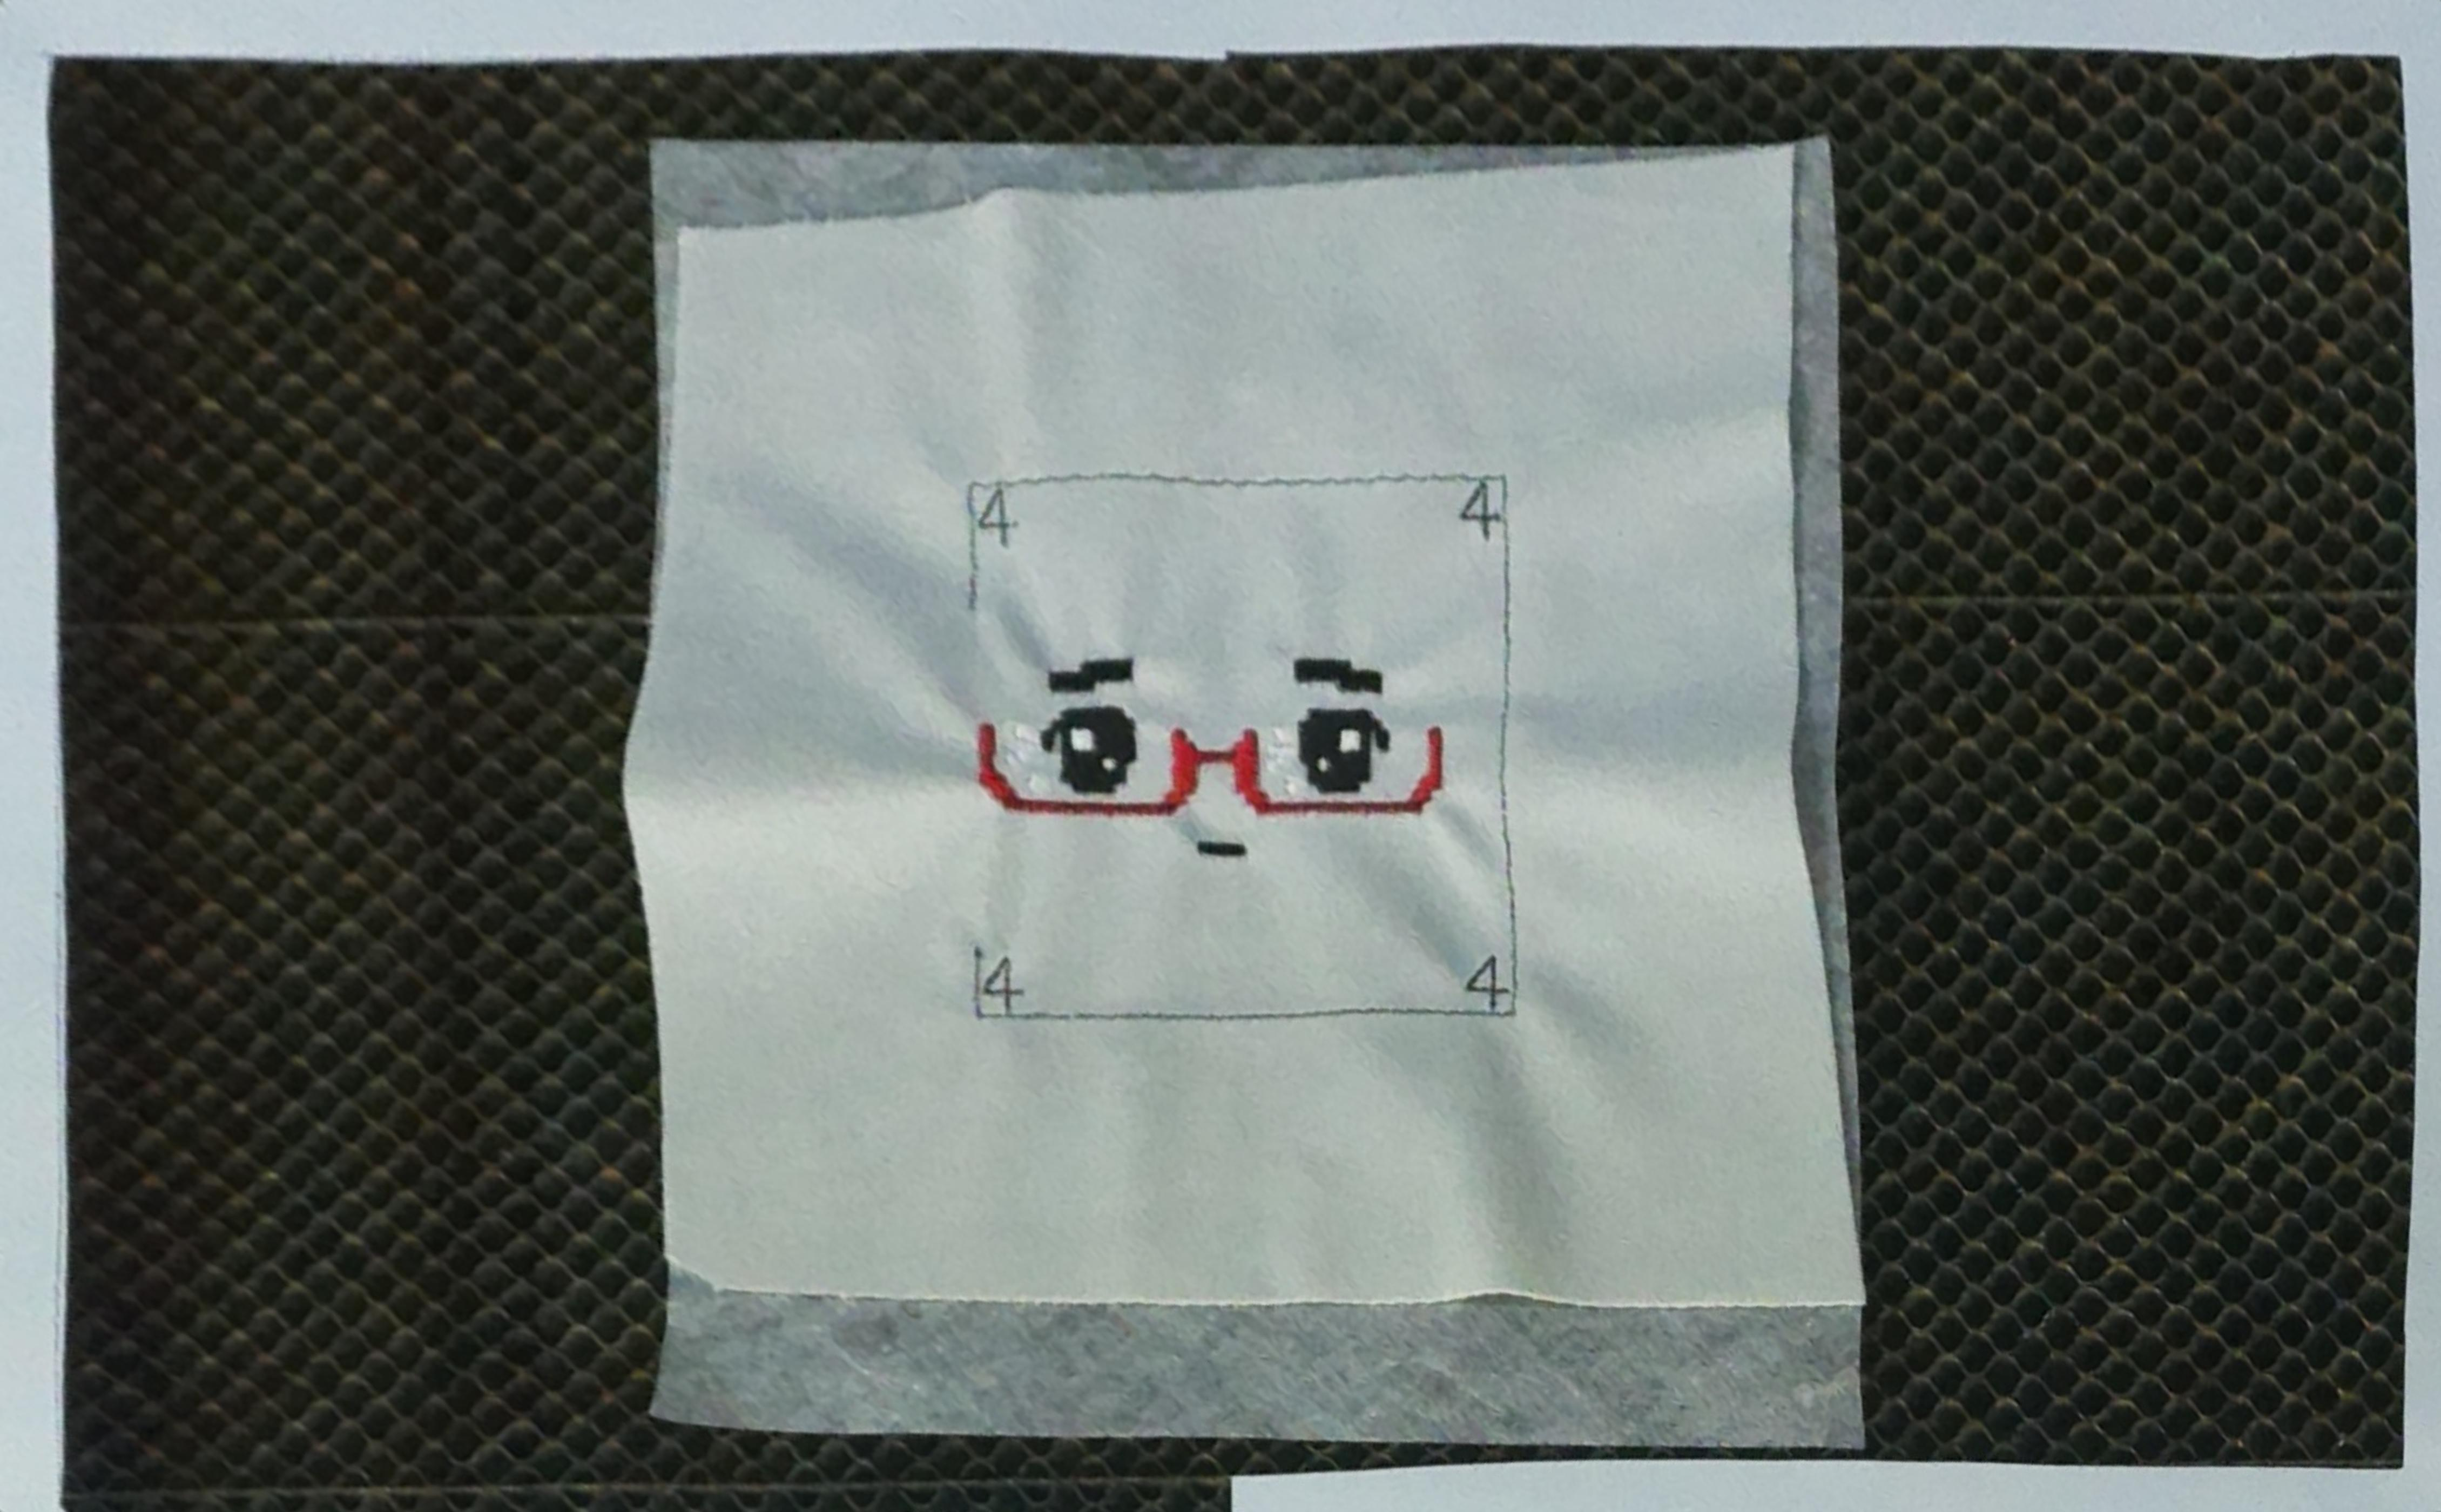4 -: (980, 947, 1032, 1013), (1461, 950, 1512, 1015), (978, 483, 1025, 551), (1458, 483, 1501, 541)
